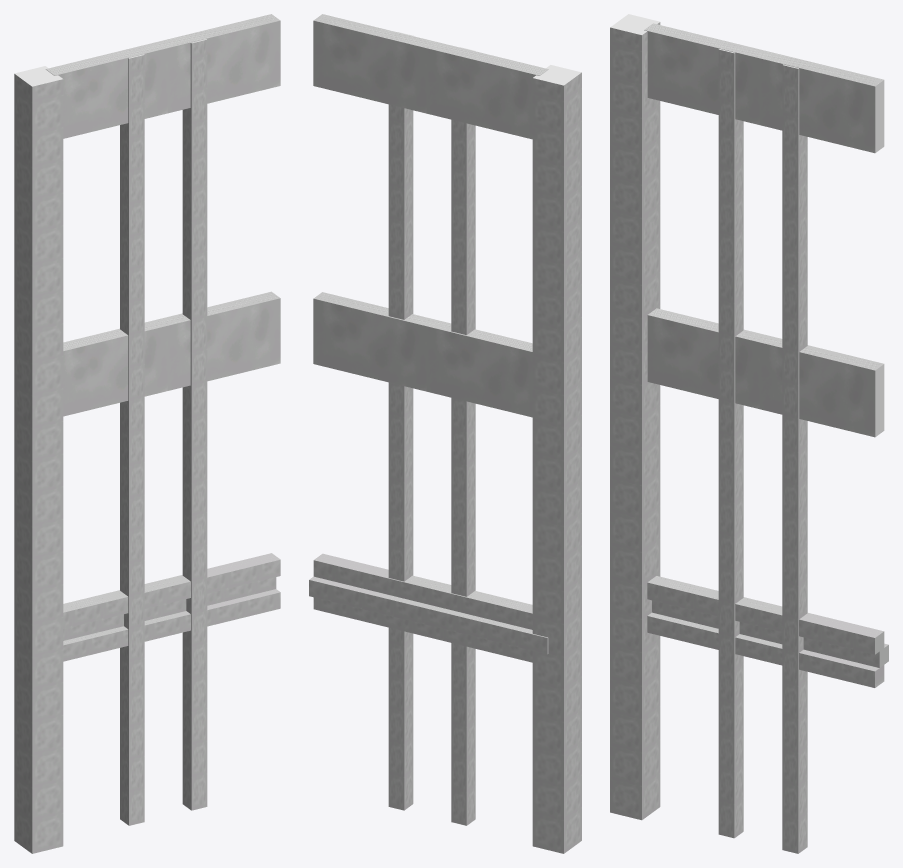
The model's file is MainBuilding_Wall_Height0.fbx.
3 views of the same model, side by side, from view 1: azimuth 30°, elevation 25°; view 2: azimuth 150°, elevation 25°; view 3: azimuth 330°, elevation 25° (orthographic). The views are drawn at different scales.
Visible parts, largest first — view 1: node_id7 (×2); view 2: node_id7 (×2); view 3: node_id7 (×2).
Part boxes in pixels (<box>): node_id7 (×2): <box>14,14,280,853</box>; node_id7 (×2): <box>309,14,581,853</box>; node_id7 (×2): <box>610,14,888,853</box>.
Bounding box in the file's own units: 0.1771 × 0.512 × 0.0226.
Materials: 2 (1 with a texture image).
